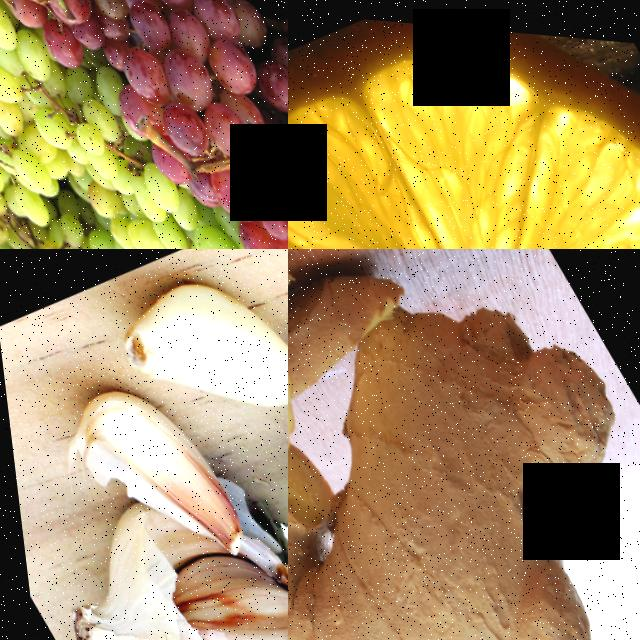garlic: (53, 344, 250, 575), (88, 249, 288, 456), (19, 500, 288, 640)
ginger: (288, 249, 640, 640)
grapes: (0, 0, 288, 147), (0, 0, 137, 249), (147, 12, 288, 249), (39, 142, 288, 249)
lemon: (288, 0, 640, 249)
